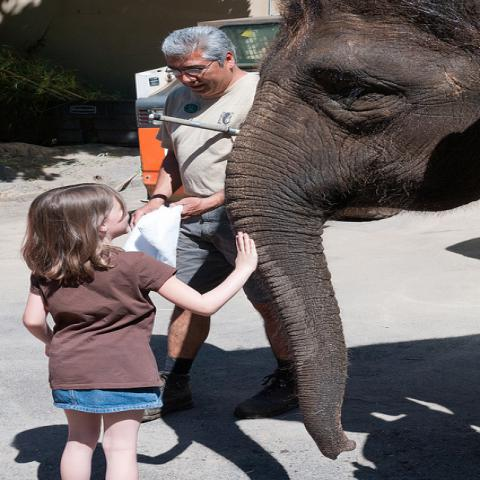car: (129, 14, 295, 114)
